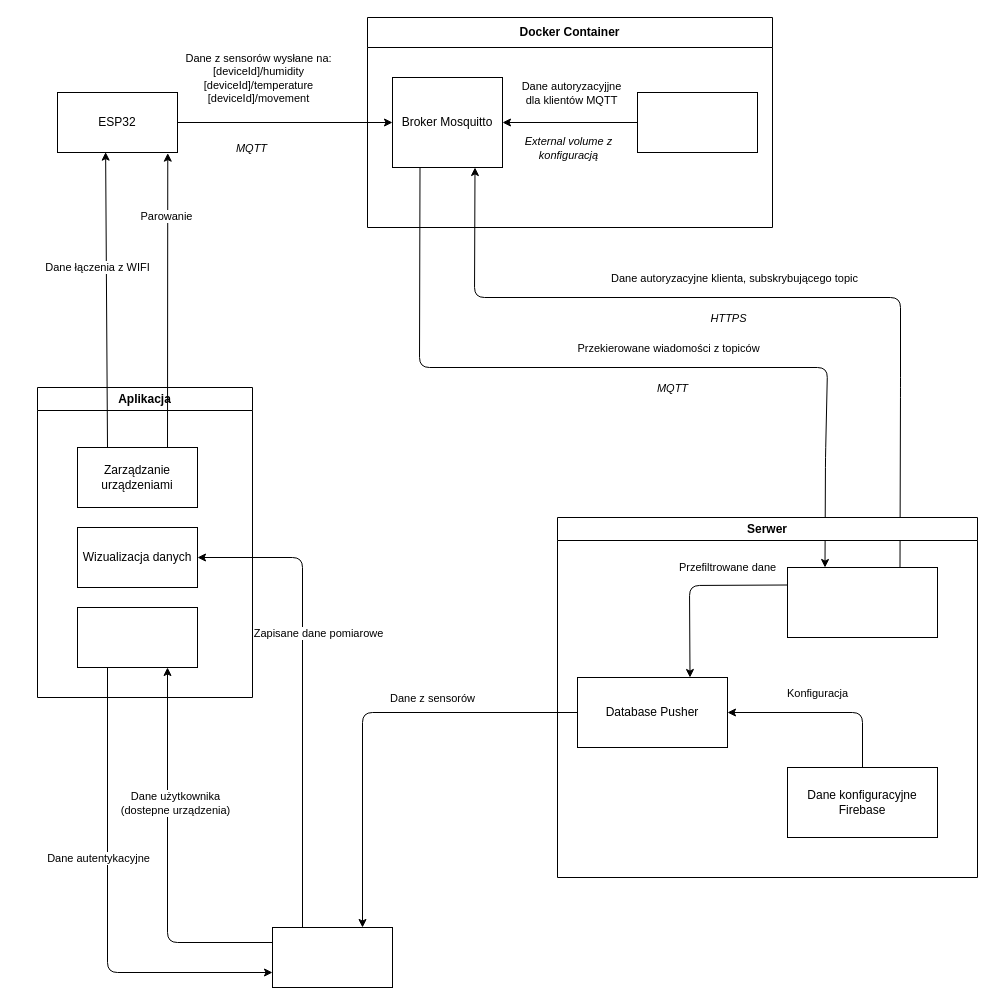
This 995x1005 diagram has some shape labels left out. The centre of each missing label's shape, as x and y in pixels:
Autentykacja użytkownika: pixel 137 637
Baza danych dostępu do topiców MQTT: pixel 697 122
Connector (MQTT Client): pixel 862 602
Firebase: pixel 332 957
